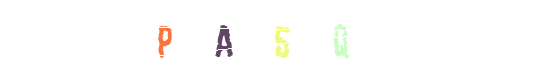5: (235, 0, 315, 80)
A: (184, 0, 264, 80)
P: (124, 0, 204, 80)
Q: (255, 0, 335, 80)
